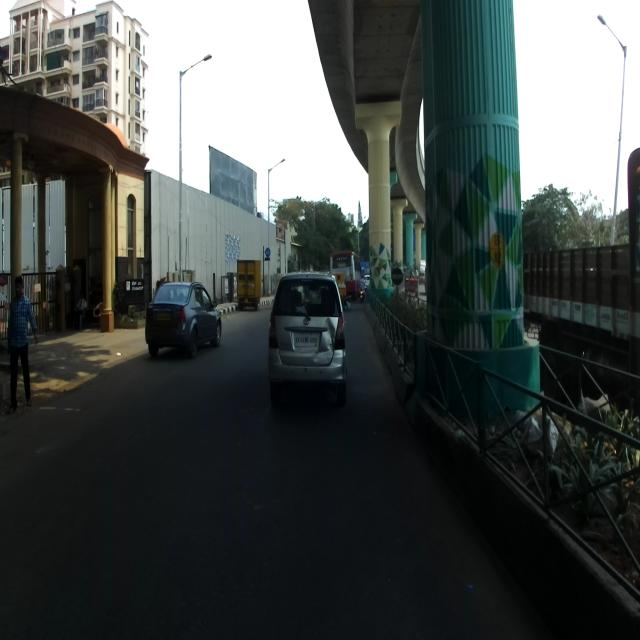car ahead at: (267, 269, 349, 401), (144, 273, 227, 368)
person ahead at: (7, 275, 44, 409)
